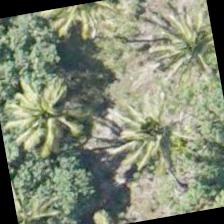Kelapa_Sawit: (109, 84, 213, 188), (0, 65, 103, 170), (142, 1, 222, 101), (9, 167, 77, 223)
